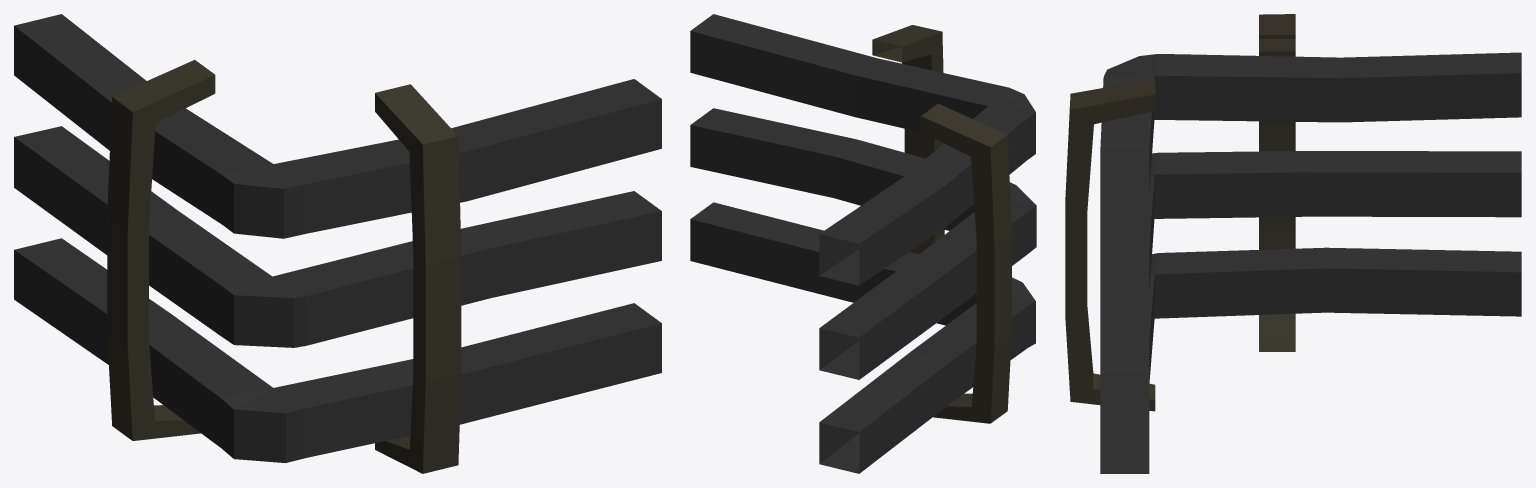
Rendered from SW_ENV_Wires3_Crnr_ShortOuterFlat.fbx.
3 views of the same model, side by side, from view 1: azimuth 30°, elevation 25°; view 2: azimuth 150°, elevation 25°; view 3: azimuth 270°, elevation 25° (orthographic). The views are drawn at different scales.
Parts seen in each view (by area): view 1: SW_ENV_Wires3_Crnr_ShortOuterFlat; view 2: SW_ENV_Wires3_Crnr_ShortOuterFlat; view 3: SW_ENV_Wires3_Crnr_ShortOuterFlat.
Part boxes in pixels (x1=…): SW_ENV_Wires3_Crnr_ShortOuterFlat: x1=14, y1=14, x2=661, y2=473; SW_ENV_Wires3_Crnr_ShortOuterFlat: x1=690, y1=14, x2=1036, y2=473; SW_ENV_Wires3_Crnr_ShortOuterFlat: x1=1065, y1=14, x2=1521, y2=473.
Size of the model in its own units: 37.36 by 28.66 by 37.36.
